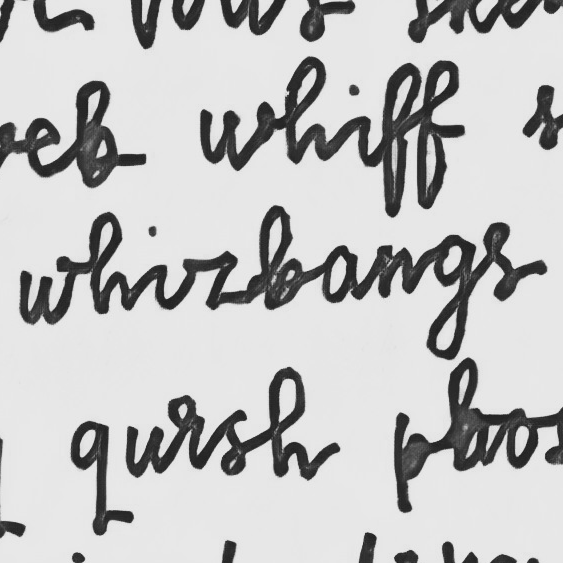a: (319, 243, 361, 306)
b: (255, 203, 308, 312)
g: (422, 231, 478, 363)
h: (86, 210, 135, 317)
i: (142, 224, 172, 312)
n: (372, 242, 417, 302)
s: (481, 219, 521, 303)
w: (15, 255, 78, 326)
z: (181, 248, 240, 312)
